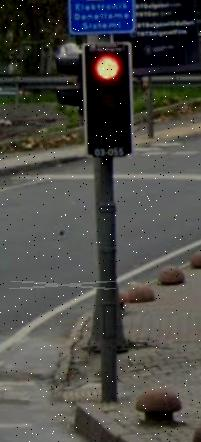redlight: (87, 41, 130, 154)
